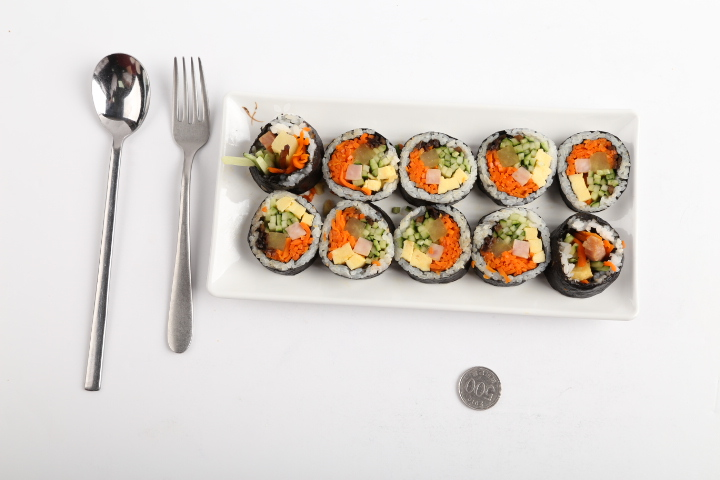dish: (207, 93, 636, 320)
ref_coin: (458, 366, 501, 410)
ref_fork: (172, 56, 211, 153)
ref_spoon: (91, 53, 151, 146)
김밥: (248, 114, 631, 299)
